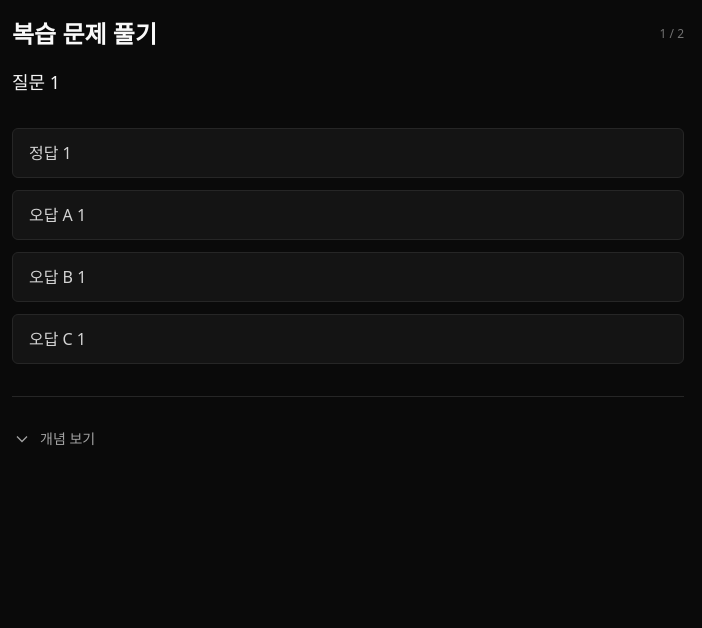
Scenario: ReviewQuizPage › 세트를 끝내면 완료 화면과 복습으로 돌아가는 링크를 준다
Click the button "정답 1" at (50, 153), box [12,128,684,178]
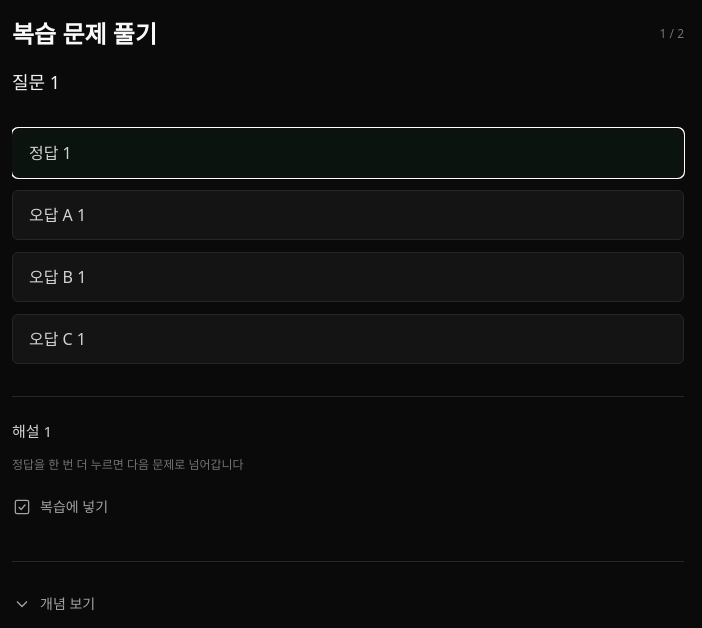
Click the button "정답 1" at (50, 153), box [12,128,684,178]
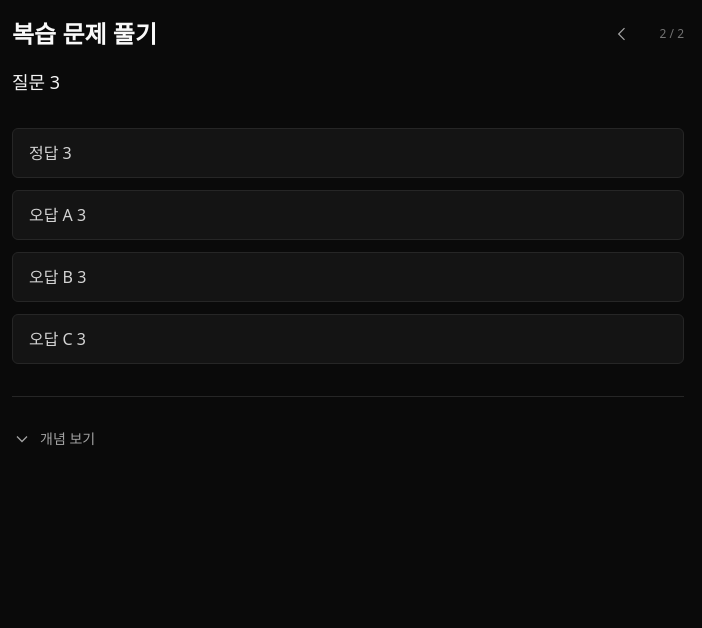
Click the button "정답 3" at (50, 153), box [12,128,684,178]
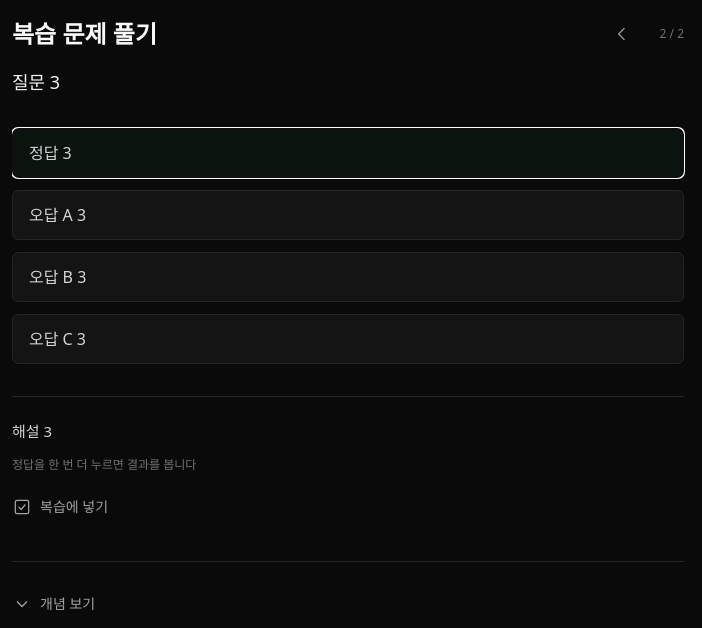
Click the button "정답 3" at (50, 153), box [12,128,684,178]
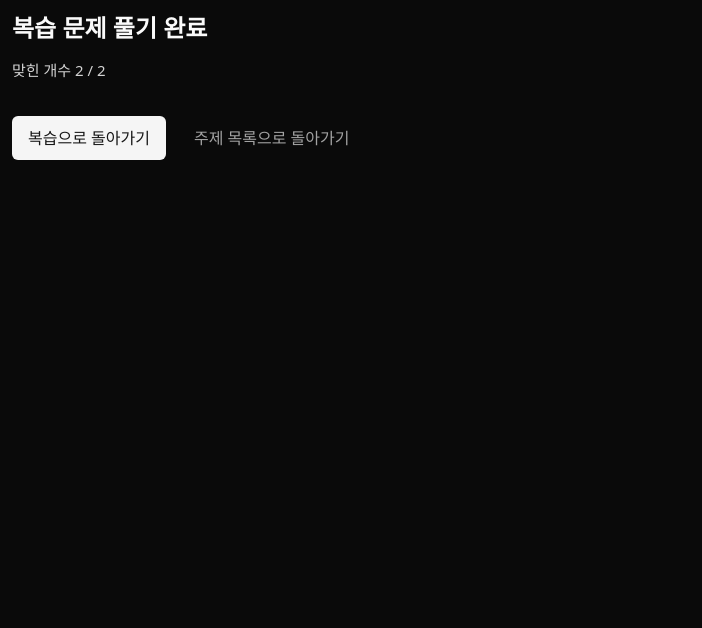
Now the heading "복습 문제 풀기 완료" is shown, box [12,11,207,44]
Now the text "맞힌 개수 2 / 2" is shown, box [12,60,106,80]
